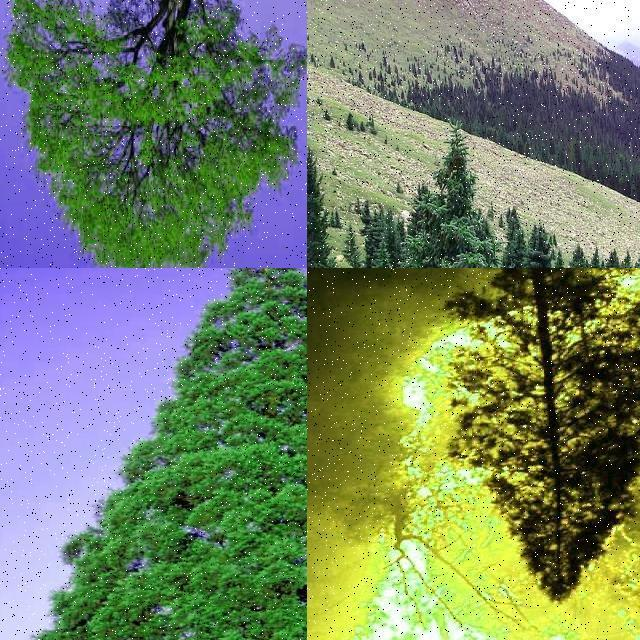tree: (23, 268, 307, 640), (1, 0, 308, 268), (448, 308, 640, 596), (368, 115, 592, 268), (442, 268, 626, 350), (308, 148, 340, 268), (522, 222, 572, 268), (501, 204, 525, 268), (308, 155, 320, 235), (564, 238, 596, 268), (307, 161, 321, 223), (307, 140, 319, 210), (307, 144, 315, 198), (307, 110, 315, 150)
